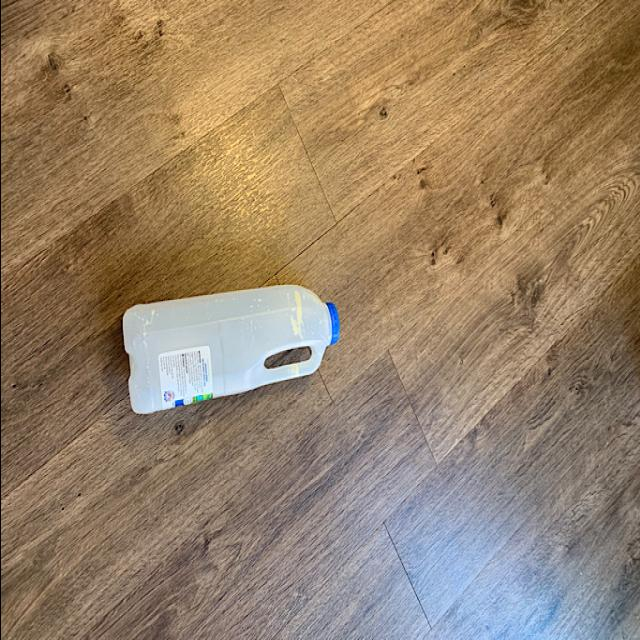HDPEM: (115, 279, 342, 425)
